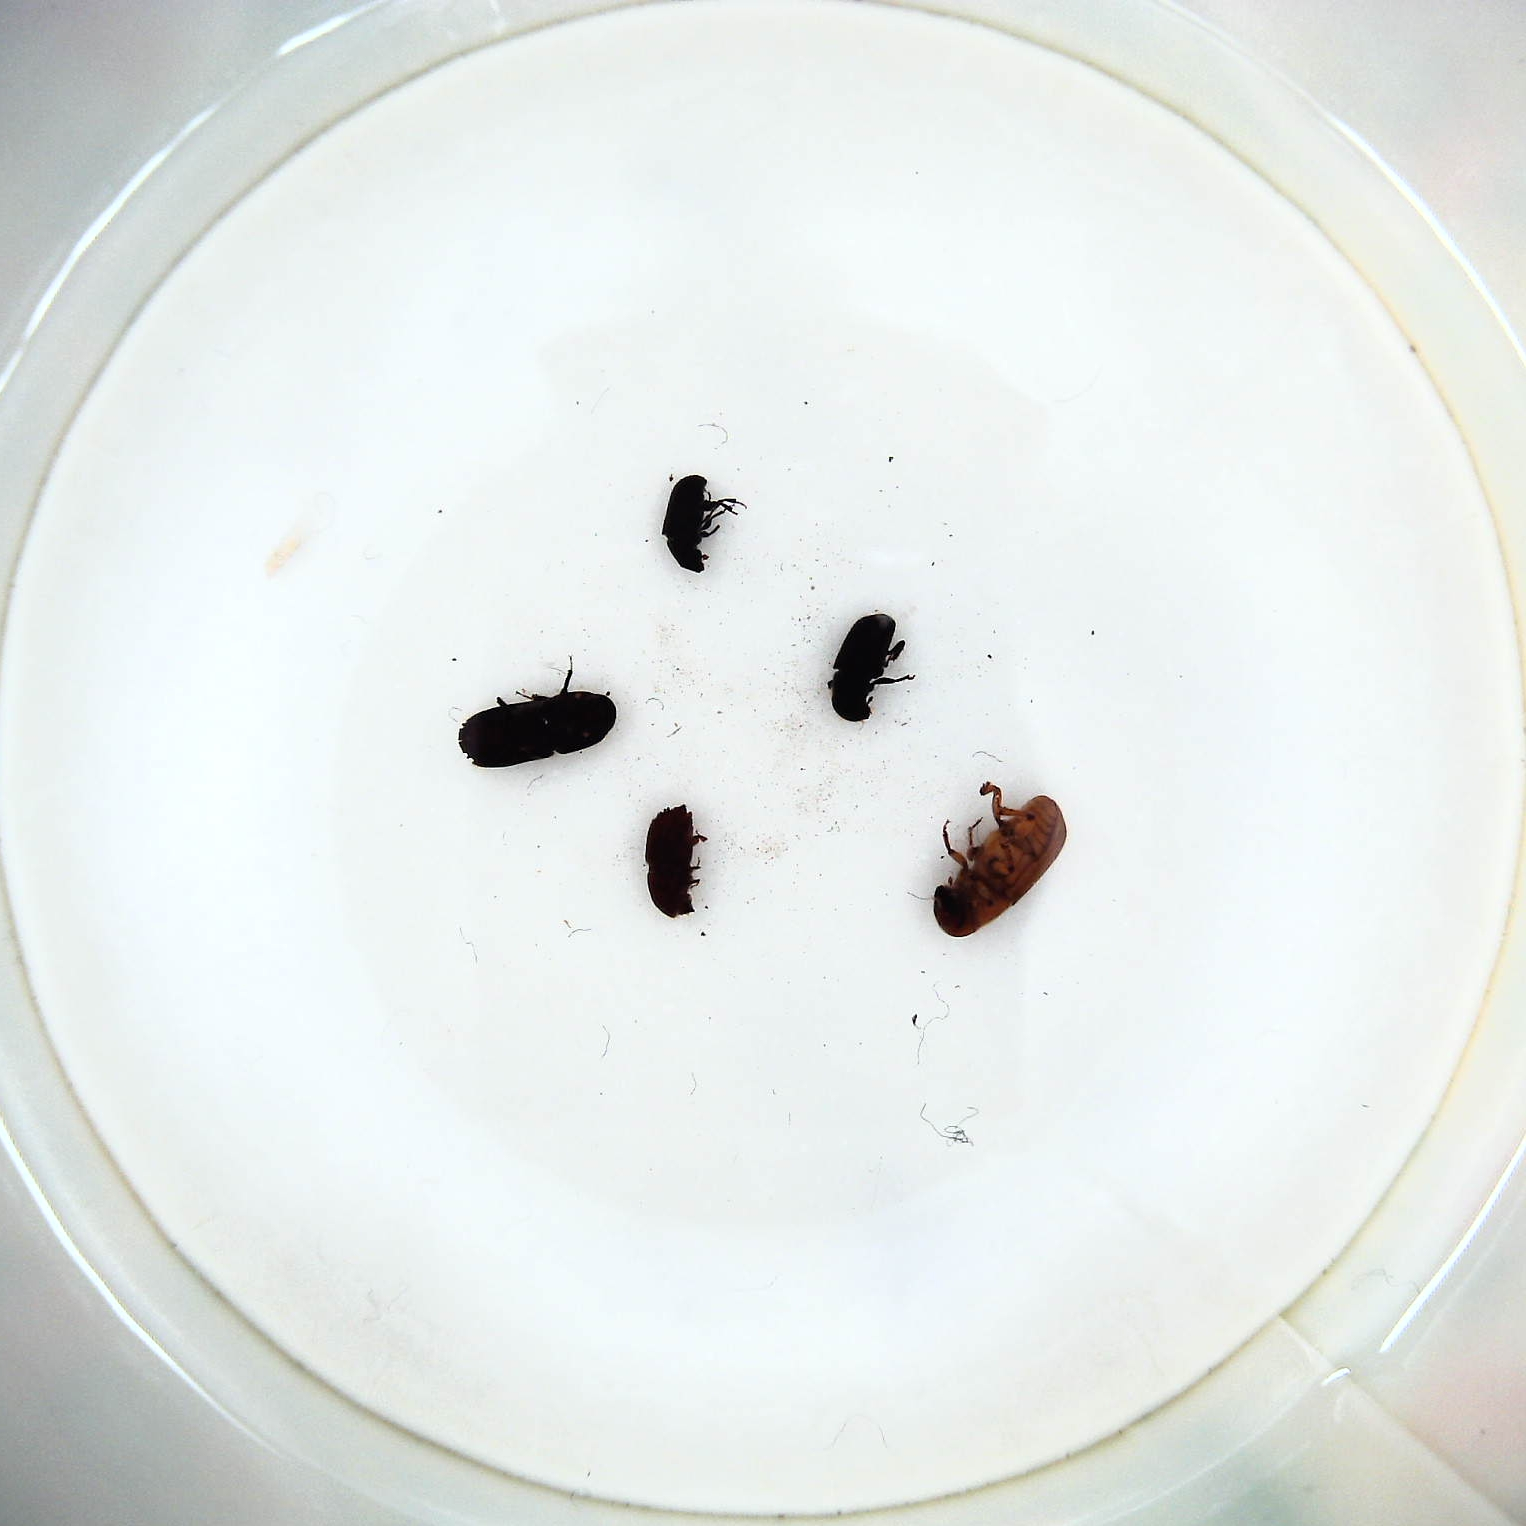Boerner: (460, 683, 627, 776)
Leconte: (931, 778, 1077, 940)
armandi: (824, 609, 908, 727)
coleoptera: (662, 470, 741, 579)
linnaeus: (643, 799, 706, 926)
